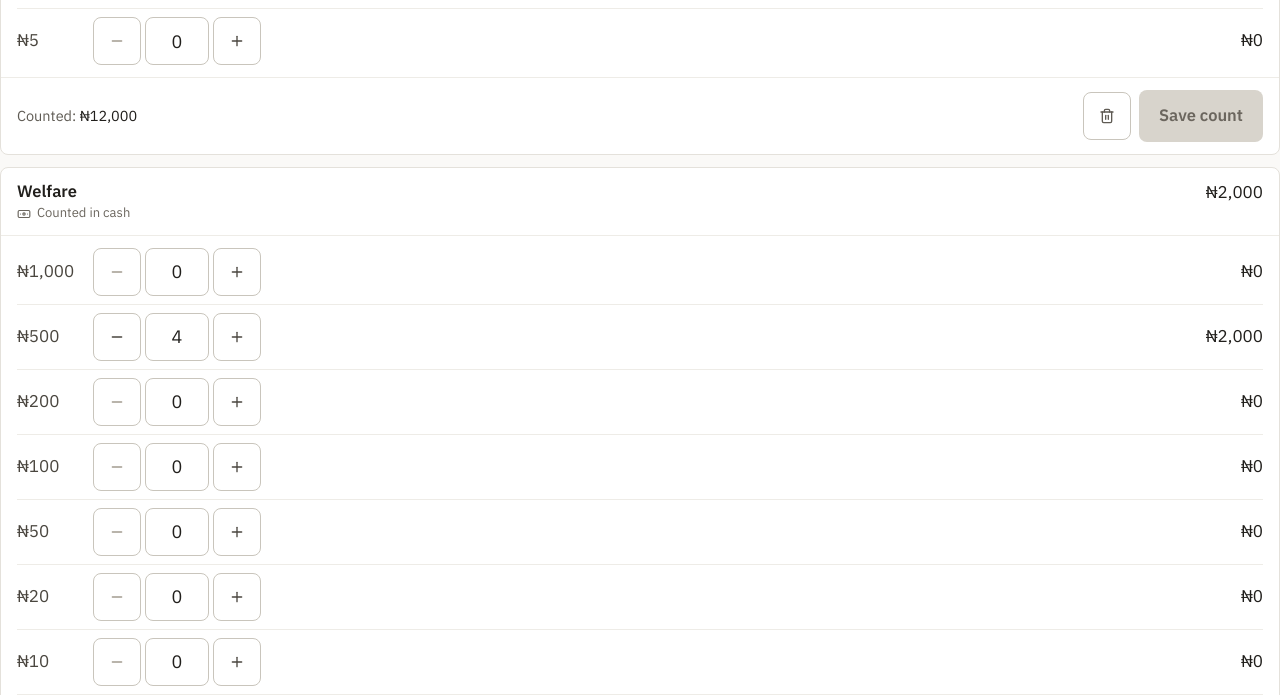
Scenario: the gate stays out of the way › leaves an untouched card out of the block when a sibling is dirty
(page scrolled)
Replace the text in the field named "How many 500 naira notes" with "9" at point(177, 337), box [145, 313, 209, 361]
(page scrolled)
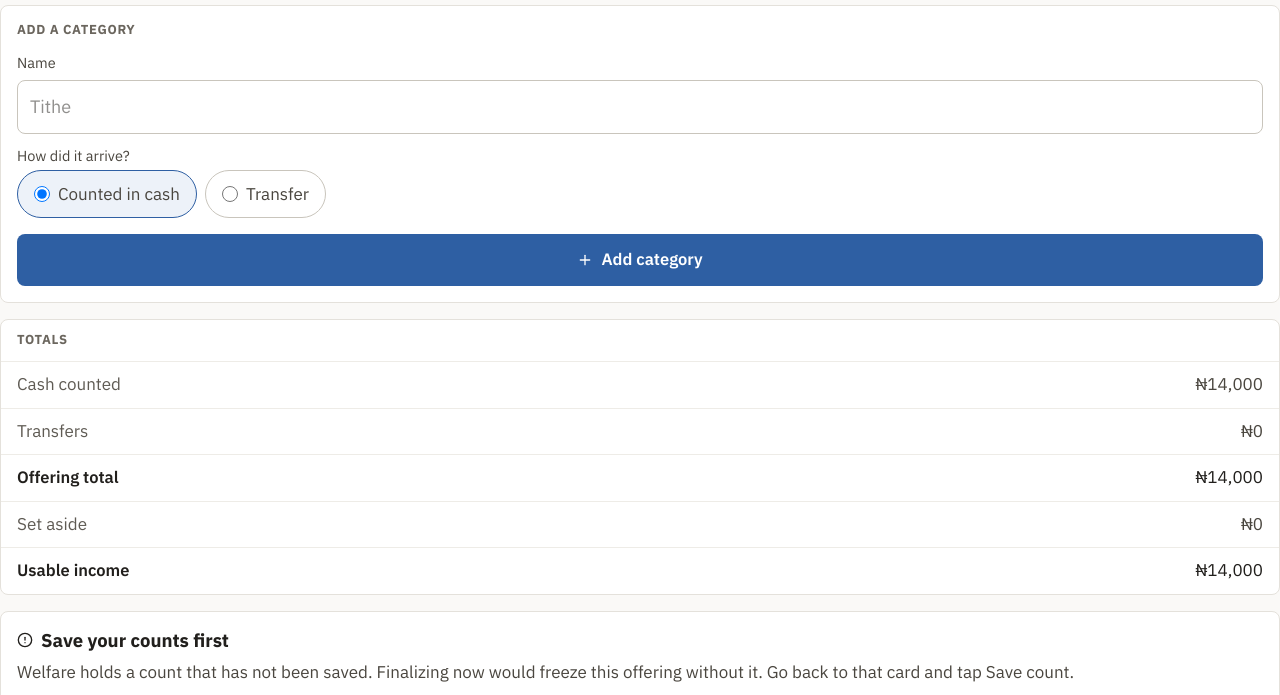
Expected: the heading "first" does not show "Tithe"
Result: the element "first" shows "Welfare" at [17, 661, 76, 683]
Result: the element "first" shows "that card" at [852, 661, 920, 683]
